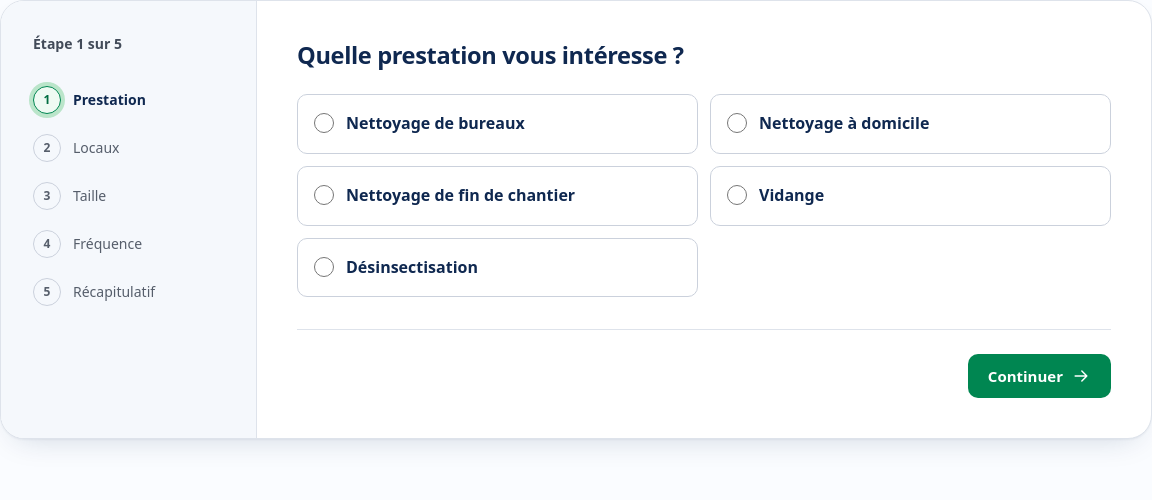
Scenario: simulateur de nettoyage (formulaire guidé) › avance, revient en arrière en gardant la réponse, et met le focus sur le titre de l’étape
This screenshot has width=1152, height=500.
Click the radio button labelled "Vidange".
click(737, 195)  # box [727,185,747,205]
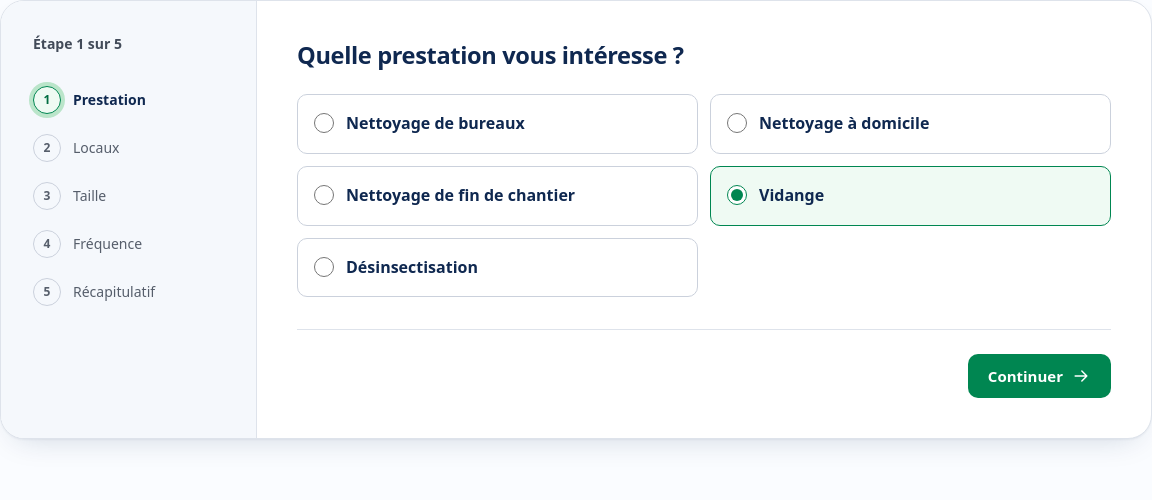
Click the button "Continuer".
click(1039, 376)  # box [968,354,1111,398]
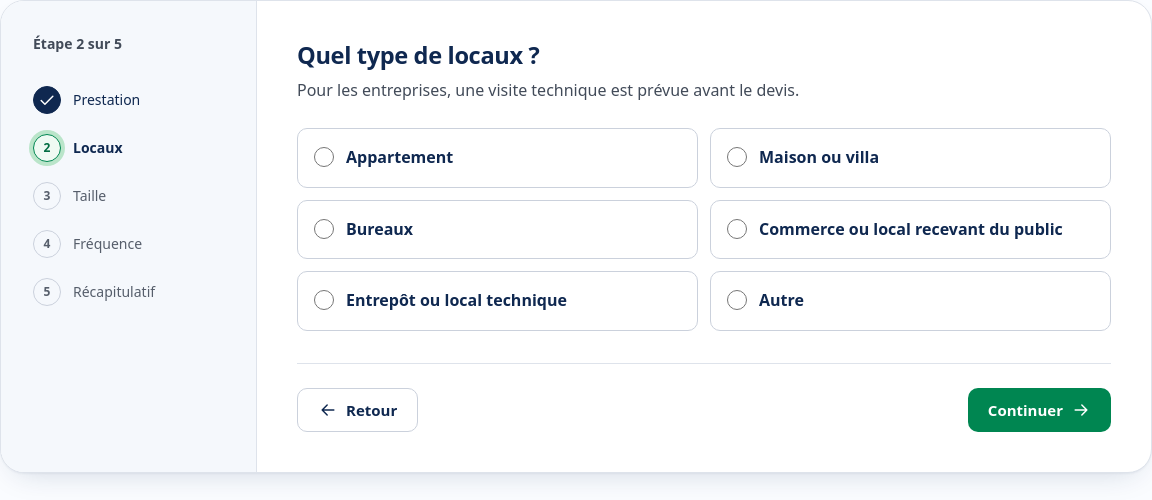
Now the heading shows "Quel type de locaux", box [297,39,539,71]
Click the button "Retour".
click(358, 410)  # box [297,388,418,432]
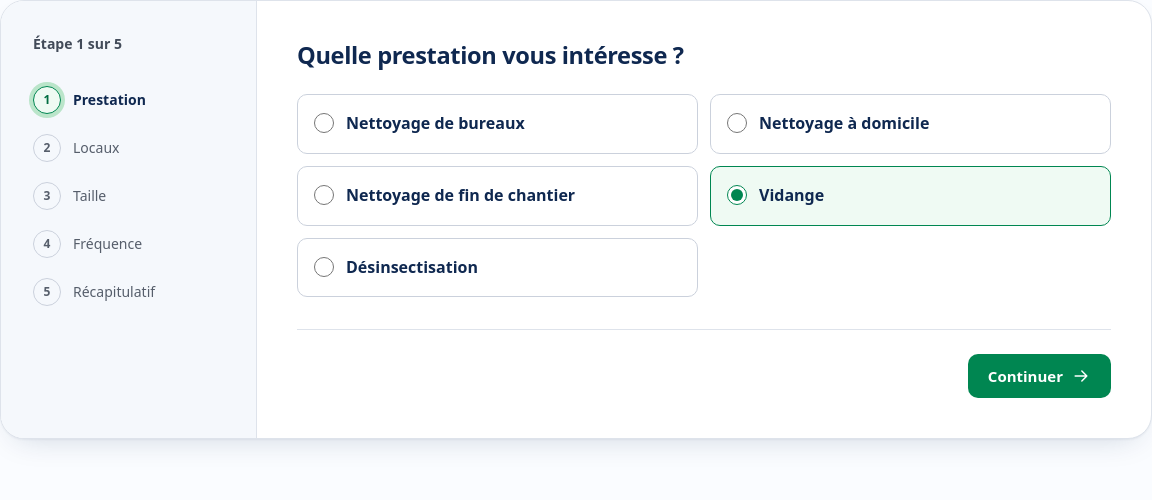
Now the heading shows "Quelle prestation vous intéresse", box [297,39,684,71]
Now the radio button labelled "Vidange" is checked, box [727,185,747,205]
